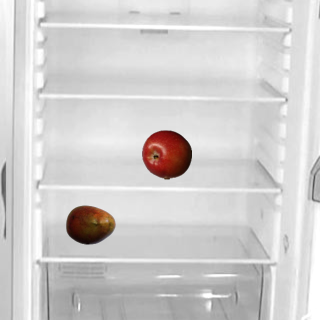Apple Braeburn: (141, 129, 191, 179)
Mango Red: (65, 199, 115, 249)
